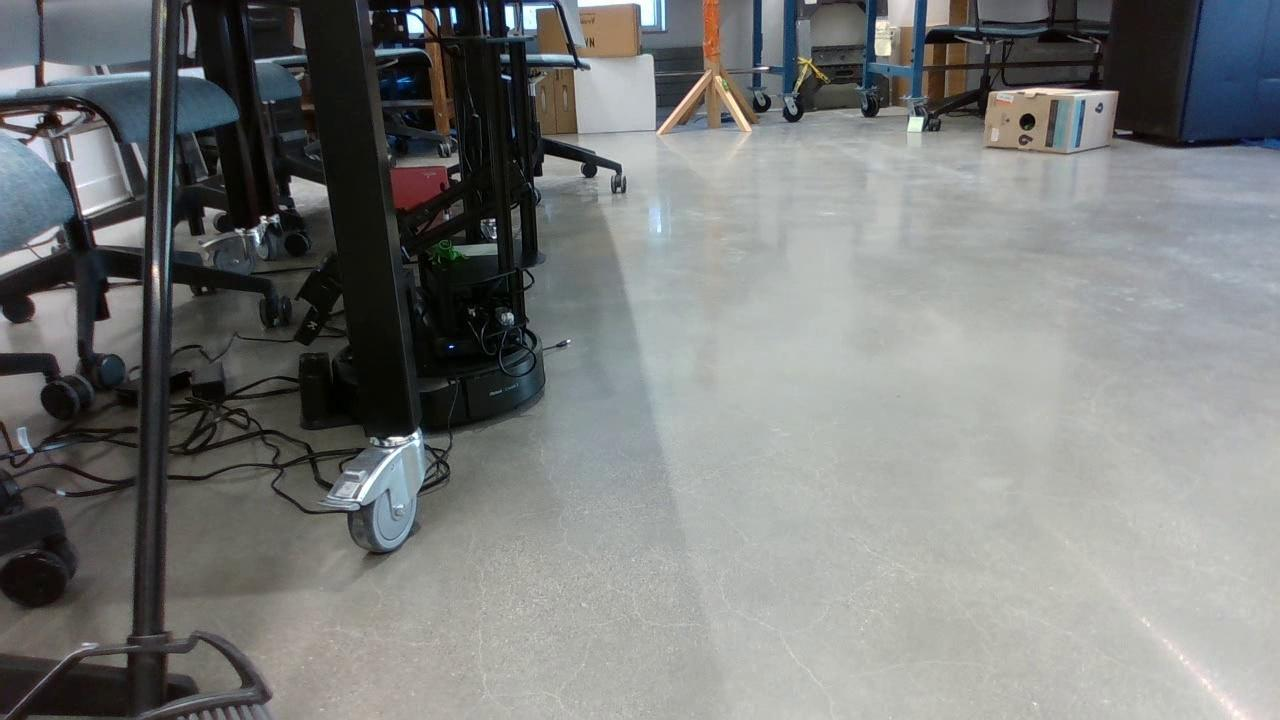grasshopper: (422, 237, 472, 266)
